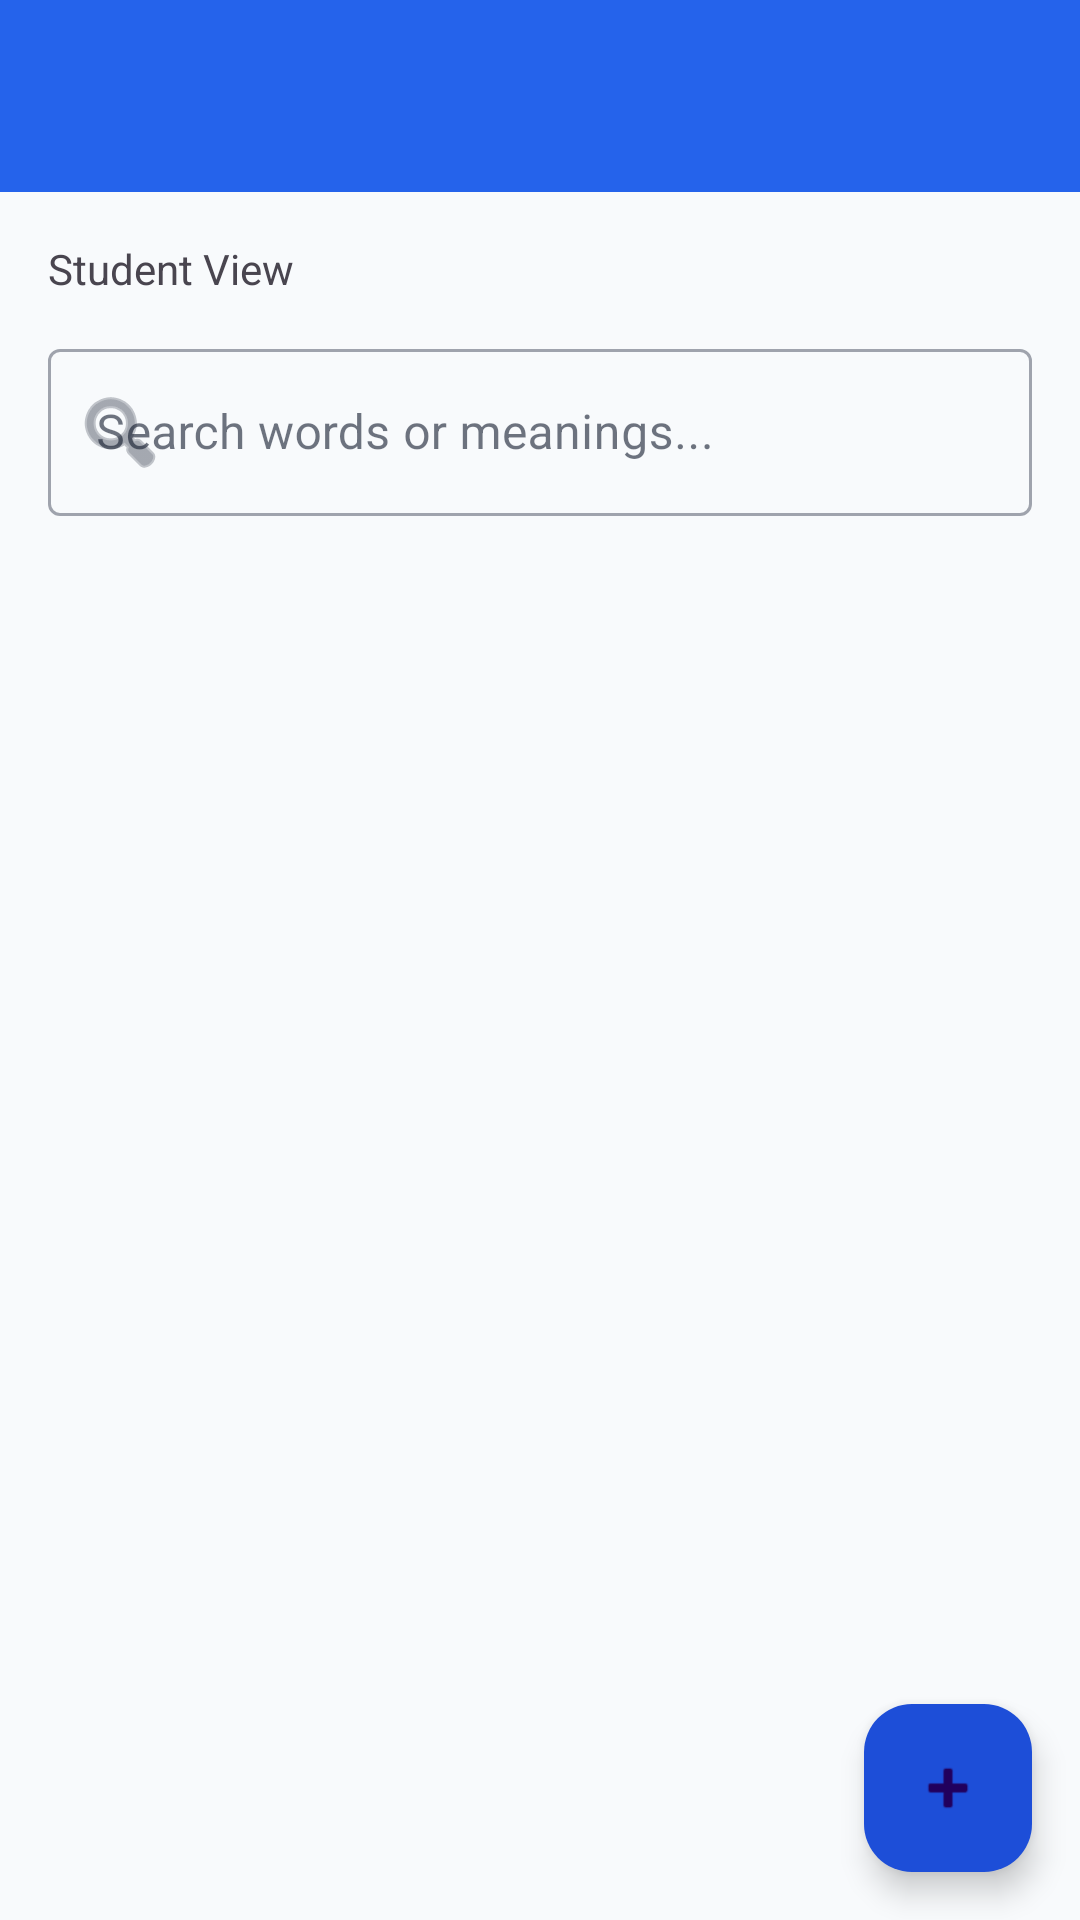

Point at icon controls on the screen. Image size 1080 x 1920, points as (x=x, y=y).
Add Word: (x=948, y=1788)
